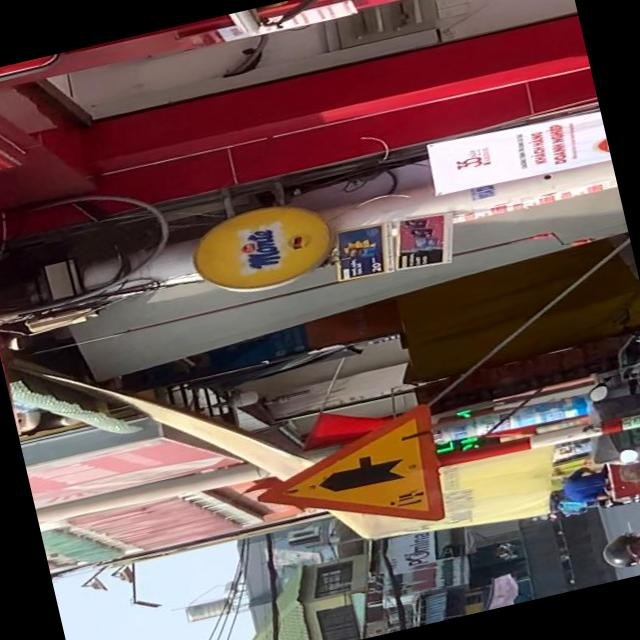W-207b: (242, 401, 457, 558)
